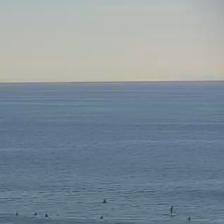surfer: (170, 206, 174, 213), (102, 199, 108, 203), (187, 216, 191, 221), (15, 212, 19, 216), (34, 212, 38, 216), (45, 214, 49, 218), (99, 216, 104, 219)
